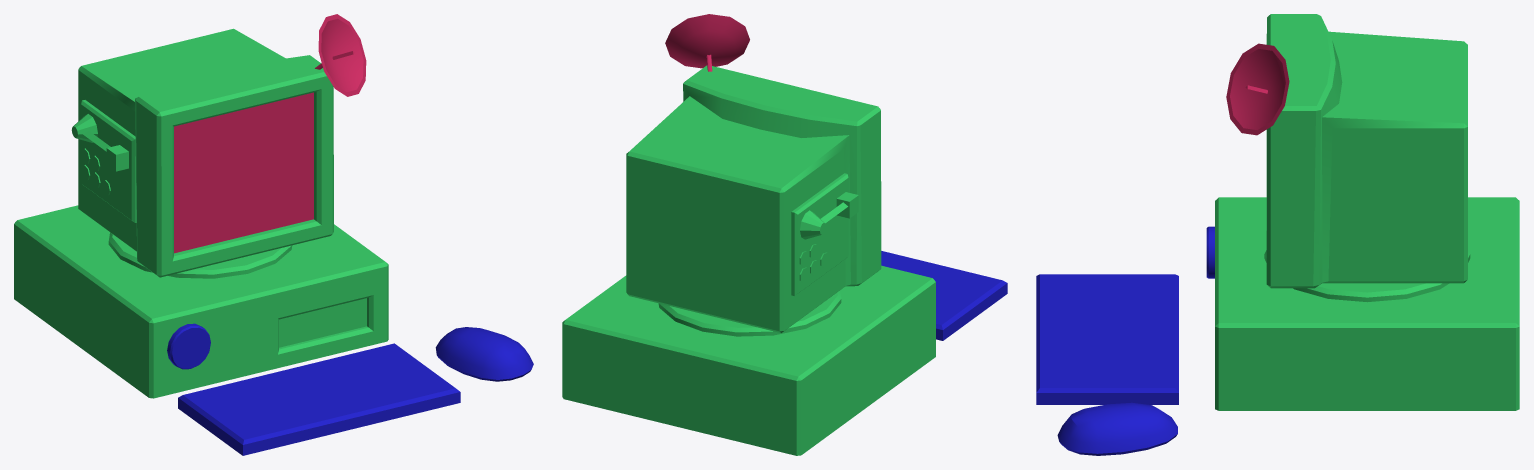
File: Distro PC.fbx
The picture shows the model from 3 angles, left to right: view 1: azimuth 30°, elevation 25°; view 2: azimuth 150°, elevation 25°; view 3: azimuth 270°, elevation 25°; orthographic projection. The views are drawn at different scales.
Parts seen in each view (by area): view 1: PC; view 2: PC; view 3: PC.
Boxes of the visible parts, bbox=[...] form: PC: bbox=[14, 14, 533, 455]; PC: bbox=[562, 14, 1007, 455]; PC: bbox=[1036, 14, 1519, 455].
Bounding box in the file's own units: 51.02 × 47.31 × 59.96.
